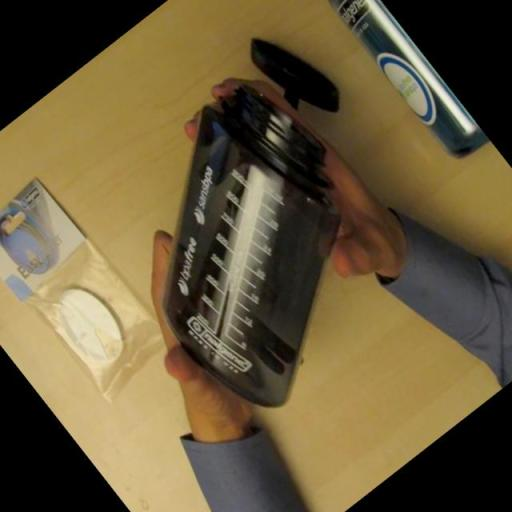bottle: (74, 64, 433, 430)
